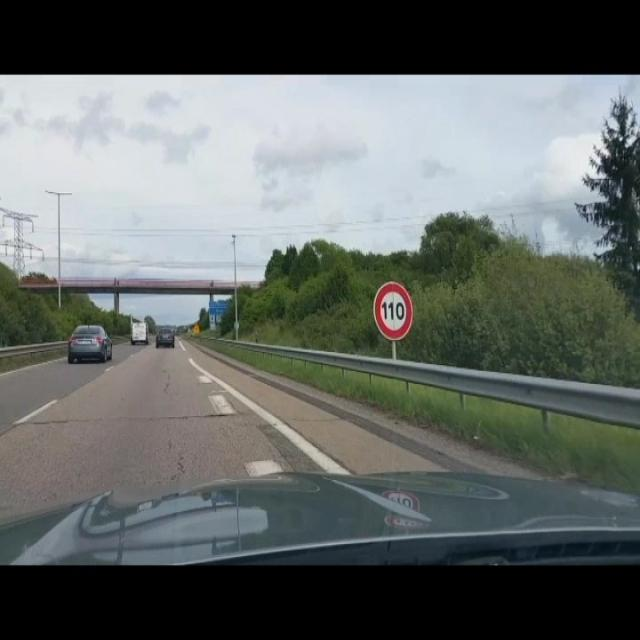speed_110: (373, 280, 413, 341)
